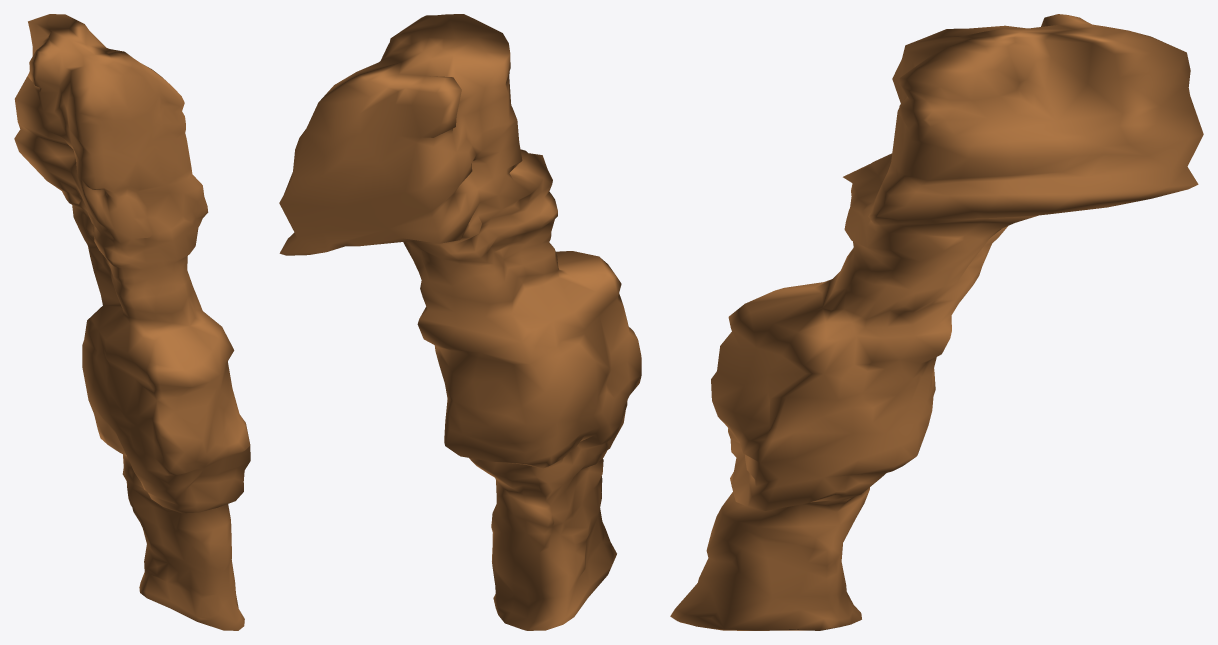
The model's file is MSH_Rocks_Cliff_23_b.FBX.
3 views of the same model, side by side, from view 1: azimuth 30°, elevation 25°; view 2: azimuth 150°, elevation 25°; view 3: azimuth 270°, elevation 25° (orthographic). The views are drawn at different scales.
Parts seen in each view (by area): view 1: MESH_LOD0; view 2: MESH_LOD0; view 3: MESH_LOD0.
Part boxes in pixels (x1,y1,x2,y2): MESH_LOD0: (14, 14, 250, 630); MESH_LOD0: (279, 14, 641, 630); MESH_LOD0: (670, 14, 1203, 630).
Size of what is drawn, in the model's own units: 143 by 570 by 467.
